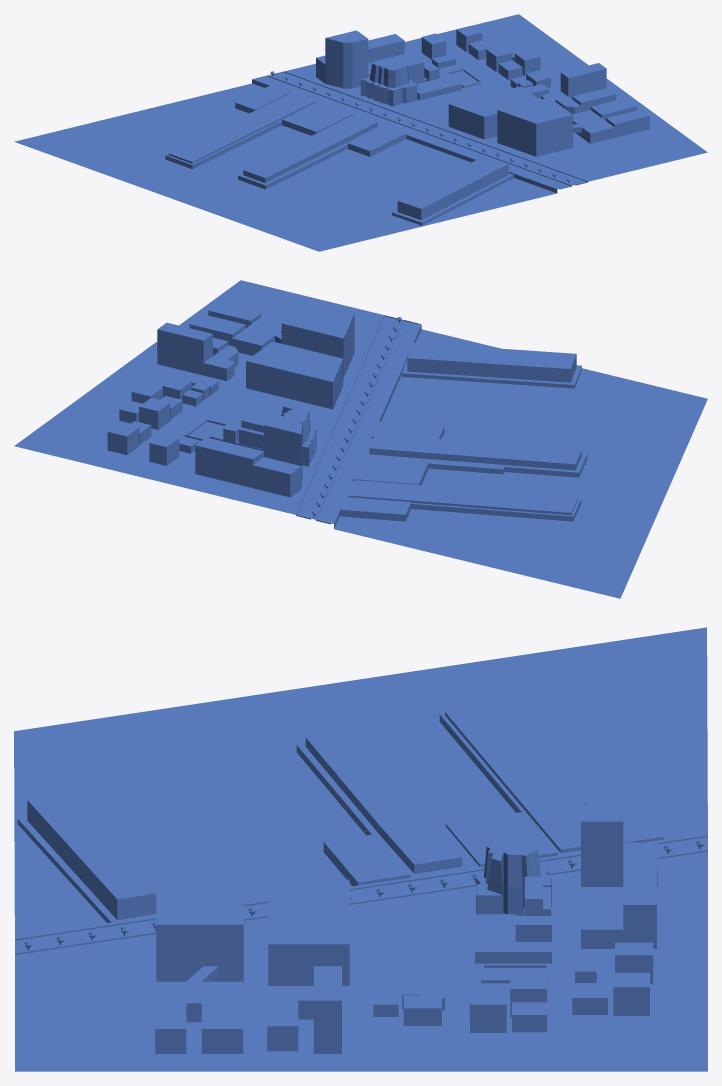
File: hologram.fbx
3 renders of one model, top to bottom at view 1: azimuth 30°, elevation 25°; view 2: azimuth 150°, elevation 25°; view 3: azimuth 270°, elevation 25°, orthographic. The views are drawn at different scales.
Visible parts, largest first — view 1: Plane, Plane.001, Cube.039, Cube.022, Cube.023, Cube.019, Cube.024, Cube.025, Cube.021, Cube.020, Cube.033, Cube.037 (+2 smaller); view 2: Plane, Plane.001, Cube.039, Cube.023, Cube.019, Cube.025, Cube.022, Cube.024, Cube.020, Cube.021, Cube.030, Cube.033 (+2 smaller); view 3: Plane, Plane.001, Cube.039, Cube.023, Cube.022, Cube.019, Cube.024, Cube.025, Cube.020, Cube.021, Cube.030, Cube.037 (+6 smaller).
Boxes of the visible parts, x1,y1,x2,y2 form: Plane: [14, 14, 707, 251]; Plane.001: [165, 85, 406, 189]; Cube.039: [392, 155, 513, 225]; Cube.022: [497, 97, 572, 156]; Cube.023: [316, 30, 412, 88]; Cube.019: [448, 86, 538, 139]; Cube.024: [573, 98, 649, 143]; Cube.025: [541, 63, 616, 114]; Cube.021: [360, 59, 417, 106]; Cube.020: [398, 58, 461, 100]; Cube.033: [421, 33, 446, 59]; Cube.037: [514, 49, 540, 75]; Plane: [14, 280, 707, 598]; Plane.001: [339, 421, 587, 521]; Cube.039: [402, 342, 581, 388]; Cube.023: [195, 415, 302, 497]; Cube.019: [246, 341, 343, 409]; Cube.025: [157, 322, 238, 380]; Cube.022: [281, 302, 354, 378]; Cube.024: [189, 303, 281, 355]; Cube.020: [209, 416, 268, 451]; Cube.021: [281, 405, 316, 466]; Cube.030: [107, 423, 139, 454]; Cube.033: [149, 434, 179, 465]; Plane: [14, 627, 707, 1071]; Plane.001: [296, 703, 663, 886]; Cube.039: [17, 791, 168, 922]; Cube.023: [581, 794, 657, 948]; Cube.022: [156, 878, 243, 984]; Cube.019: [268, 879, 349, 985]; Cube.024: [155, 966, 243, 1053]; Cube.025: [267, 966, 341, 1053]; Cube.020: [475, 876, 551, 963]; Cube.021: [476, 838, 551, 915]; Cube.030: [613, 972, 649, 1015]; Cube.037: [470, 990, 506, 1032].
Size of the model in its own units: 92899 by 8925 by 60298.
